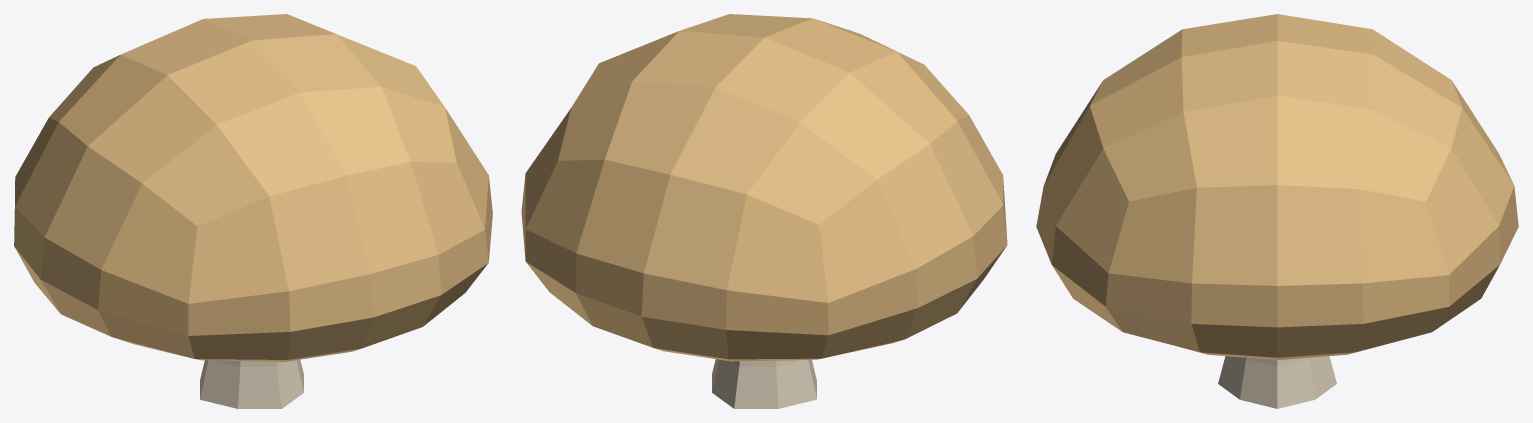
The model's file is champignon_mushroom.fbx.
The picture shows the model from 3 angles, left to right: view 1: azimuth 30°, elevation 25°; view 2: azimuth 150°, elevation 25°; view 3: azimuth 270°, elevation 25°; orthographic projection.
Visible parts, largest first — view 1: champignon_mushroom; view 2: champignon_mushroom; view 3: champignon_mushroom.
Boxes of the visible parts, left/top/right/bottom form: champignon_mushroom: left=14, top=14, right=492, bottom=408; champignon_mushroom: left=521, top=14, right=1007, bottom=408; champignon_mushroom: left=1036, top=14, right=1518, bottom=408.
Size of the model in its own units: 74.79 by 59.03 by 75.25.
